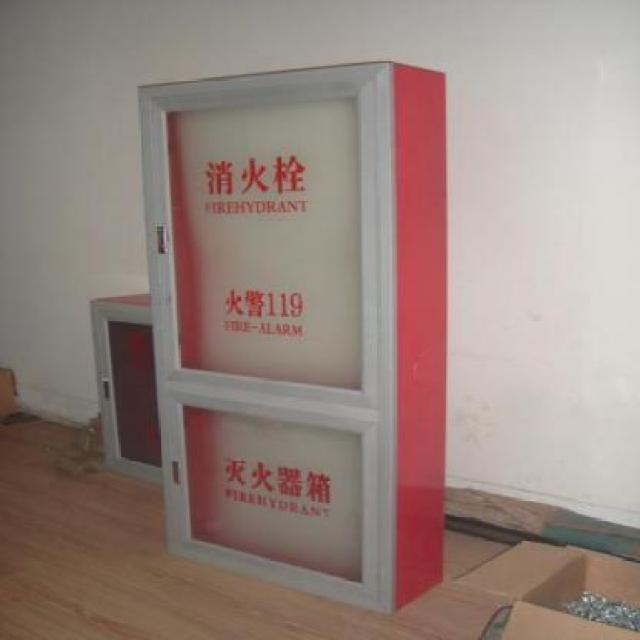firehydrant: (129, 54, 453, 620), (85, 285, 176, 489)
